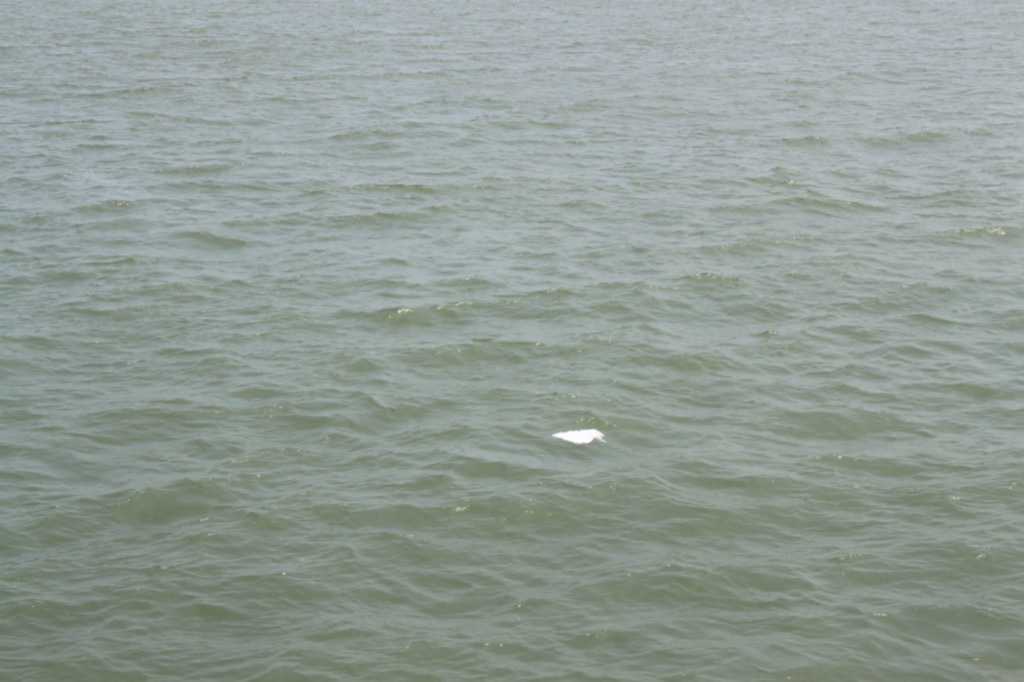plastic: (544, 419, 614, 455), (516, 377, 558, 405)
